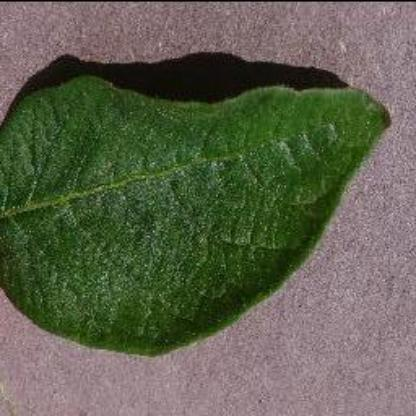Healthy-plant: (6, 59, 400, 363)
